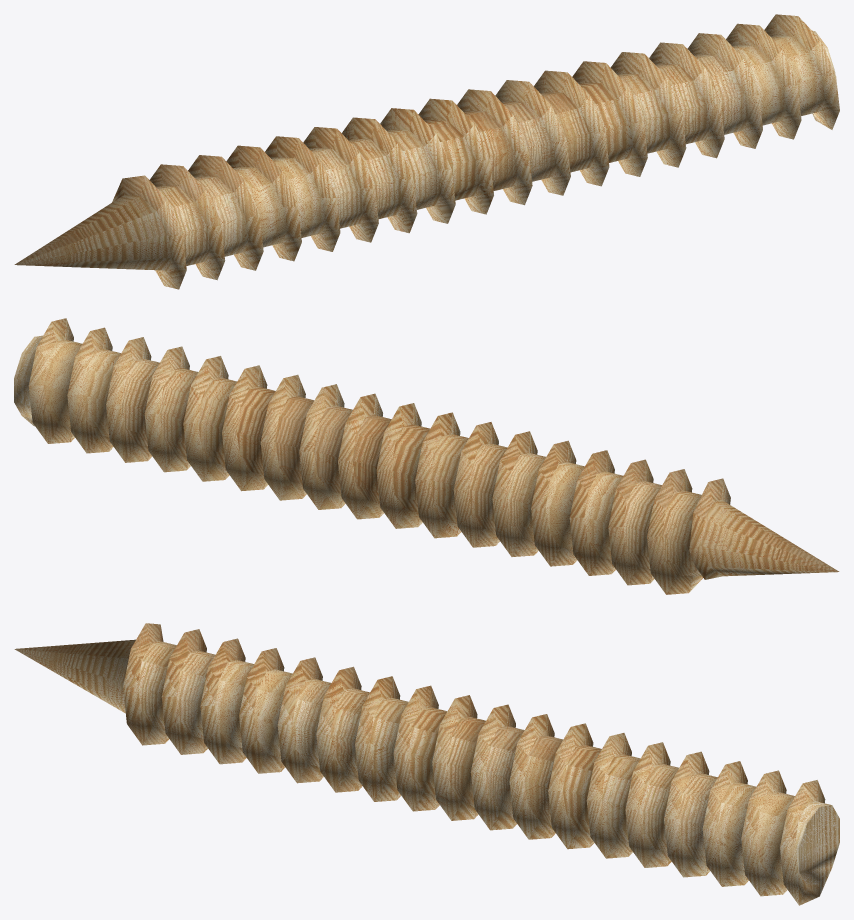
The model's file is original-122.obj.
3 views of the same model, one above another, from view 1: azimuth 30°, elevation 25°; view 2: azimuth 150°, elevation 25°; view 3: azimuth 330°, elevation 25° (orthographic).
Visible parts, largest first — view 1: Group110/mesh182/mesh182-geometry#mesh182-geometry; view 2: Group110/mesh182/mesh182-geometry#mesh182-geometry; view 3: Group110/mesh182/mesh182-geometry#mesh182-geometry.
Boxes of the visible parts, x1,y1,x2,y2 form: Group110/mesh182/mesh182-geometry#mesh182-geometry: [14, 14, 839, 289]; Group110/mesh182/mesh182-geometry#mesh182-geometry: [14, 318, 839, 594]; Group110/mesh182/mesh182-geometry#mesh182-geometry: [14, 623, 839, 905].
Bounding box in the file's own units: 0.0552 × 0.00759 × 0.00722.
